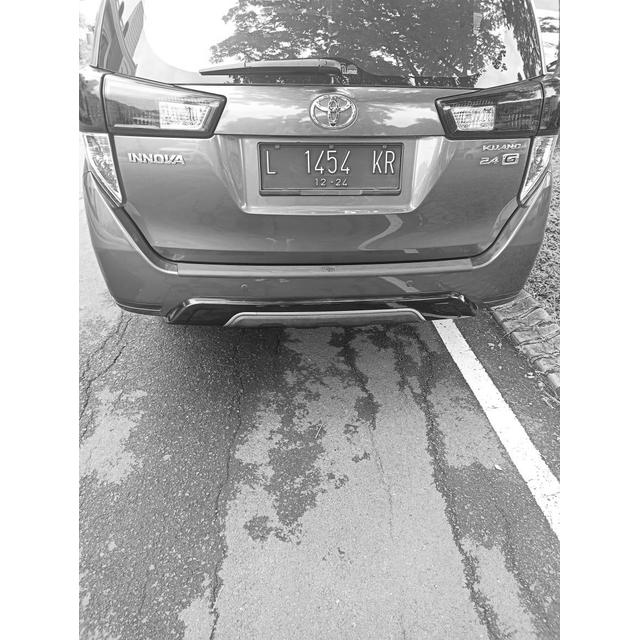license: (263, 146, 397, 189)
